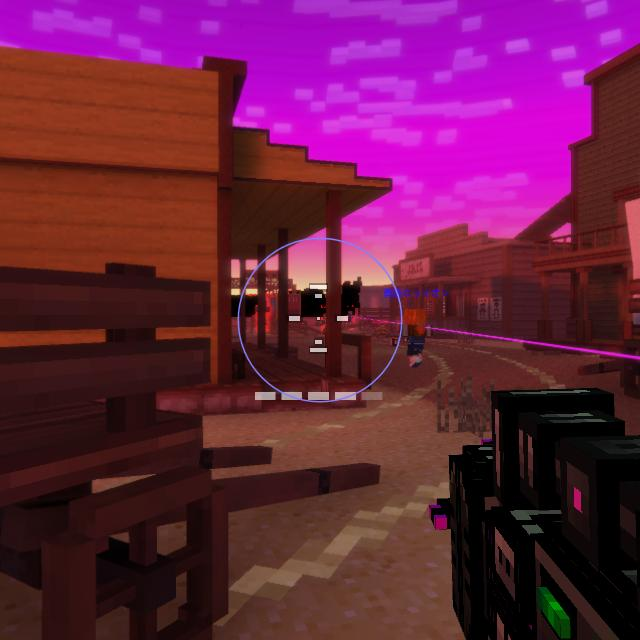Enemy: (255, 299, 270, 325), (316, 313, 326, 335), (347, 311, 353, 324)
